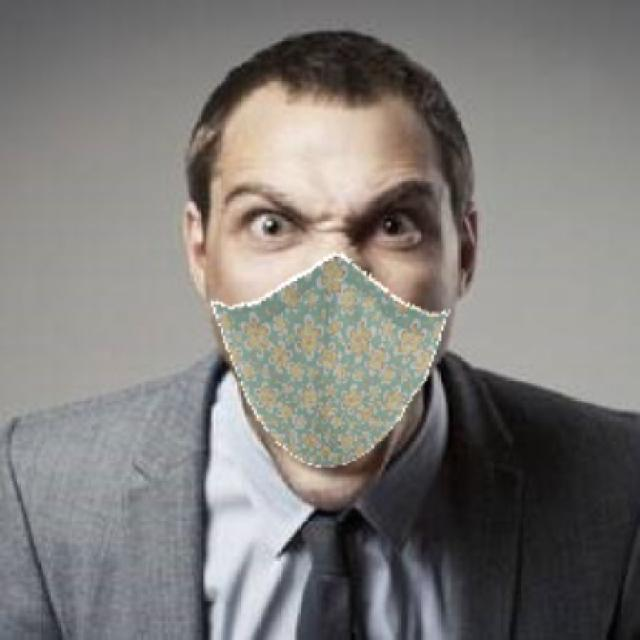mask: (91, 225, 475, 476)
